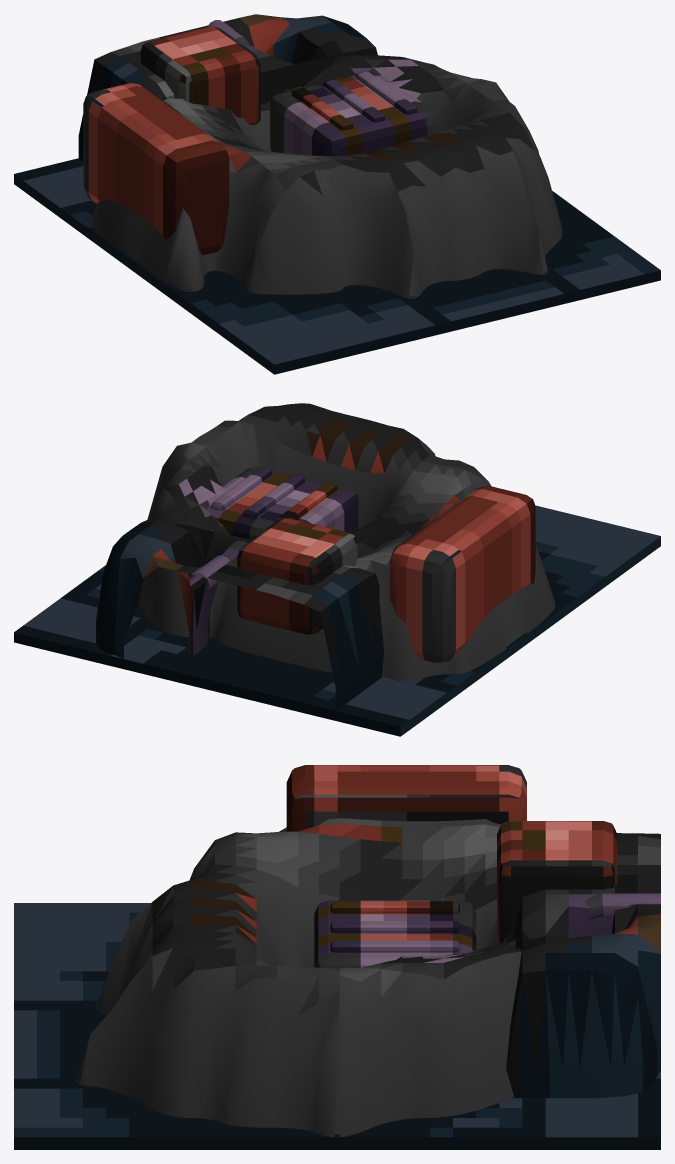
File: deli_tower_79.glb
3 views of the same model, one above another, from view 1: azimuth 30°, elevation 25°; view 2: azimuth 150°, elevation 25°; view 3: azimuth 270°, elevation 25° (orthographic). The views are drawn at different scales.
Parts seen in each view (by area): view 1: deli_tower_79_turret, deli_tower_79_bay_floor, deli_tower_79_turret_panel, deli_tower_79_mast, deli_tower_79_turret_vent, deli_tower_79_turret_lid, deli_tower_79_turret_slat2, deli_tower_79_turret_slat1, deli_tower_79_turret_slat0; view 2: deli_tower_79_turret, deli_tower_79_bay_floor, deli_tower_79_mast, deli_tower_79_turret_panel, deli_tower_79_turret_lid, deli_tower_79_turret_vent, deli_tower_79_turret_slat2, deli_tower_79_turret_slat1, deli_tower_79_turret_slat0, deli_tower_79_mast_pipe; view 3: deli_tower_79_turret, deli_tower_79_bay_floor, deli_tower_79_mast, deli_tower_79_turret_panel, deli_tower_79_turret_lid, deli_tower_79_turret_vent, deli_tower_79_turret_slat0, deli_tower_79_turret_slat2, deli_tower_79_turret_slat1, deli_tower_79_mast_pipe.
Boxes of the visible parts, <box> form: deli_tower_79_turret: <box>91,55,562,298</box>; deli_tower_79_bay_floor: <box>14,158,660,374</box>; deli_tower_79_turret_panel: <box>83,83,229,255</box>; deli_tower_79_mast: <box>78,14,377,161</box>; deli_tower_79_turret_vent: <box>270,75,438,156</box>; deli_tower_79_turret_lid: <box>140,26,260,124</box>; deli_tower_79_turret_slat2: <box>355,71,417,114</box>; deli_tower_79_turret_slat1: <box>323,79,385,122</box>; deli_tower_79_turret_slat0: <box>291,86,353,130</box>; deli_tower_79_turret: <box>139,403,555,680</box>; deli_tower_79_bay_floor: <box>14,505,660,736</box>; deli_tower_79_mast: <box>96,518,384,710</box>; deli_tower_79_turret_panel: <box>389,486,535,662</box>; deli_tower_79_turret_lid: <box>237,518,357,634</box>; deli_tower_79_turret_vent: <box>207,467,358,539</box>; deli_tower_79_turret_slat2: <box>210,467,272,510</box>; deli_tower_79_turret_slat1: <box>243,475,304,518</box>; deli_tower_79_turret_slat0: <box>275,483,337,521</box>; deli_tower_79_mast_pipe: <box>189,555,231,590</box>; deli_tower_79_turret: <box>75,818,521,1137</box>; deli_tower_79_bay_floor: <box>14,903,660,1149</box>; deli_tower_79_mast: <box>506,833,660,1098</box>; deli_tower_79_turret_panel: <box>286,765,526,831</box>; deli_tower_79_turret_lid: <box>497,821,617,944</box>; deli_tower_79_turret_vent: <box>314,900,476,967</box>; deli_tower_79_turret_slat0: <box>330,901,459,913</box>; deli_tower_79_turret_slat2: <box>330,940,459,952</box>; deli_tower_79_turret_slat1: <box>330,921,459,933</box>; deli_tower_79_mast_pipe: <box>585,893,660,918</box>.
Bounding box in the file's own units: 23.98 × 7.8 × 27.98.
